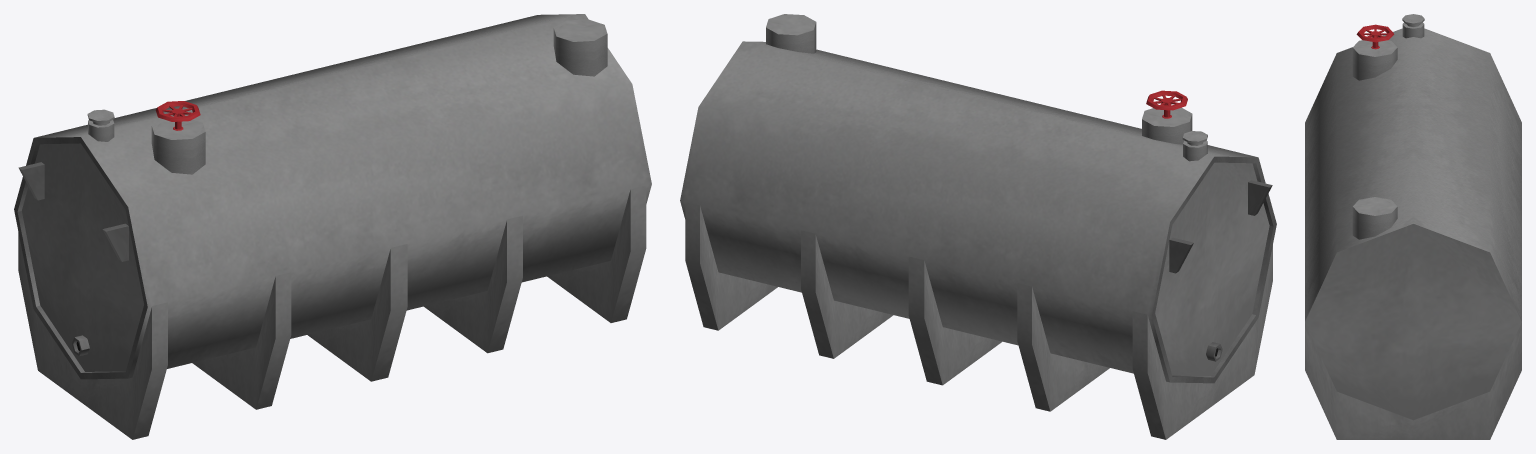
Rendered from Tank.fbx.
The picture shows the model from 3 angles, left to right: view 1: azimuth 30°, elevation 25°; view 2: azimuth 150°, elevation 25°; view 3: azimuth 270°, elevation 25°; orthographic projection. The views are drawn at different scales.
Parts seen in each view (by area): view 1: Tanque; view 2: Tanque; view 3: Tanque.
Boxes of the visible parts, <box> form: Tanque: <box>14,14,651,439</box>; Tanque: <box>680,14,1276,439</box>; Tanque: <box>1305,14,1521,439</box>.
Size of the model in its own units: 489 by 265 by 217.
Materials: 1 (1 with a texture image).
